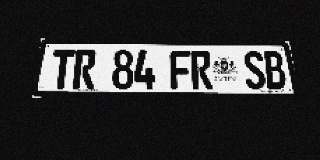4: (134, 50, 155, 89)
8: (112, 50, 134, 89)
B: (262, 51, 288, 89)
F: (170, 50, 191, 89)
R: (72, 49, 97, 89), (190, 51, 213, 89)
S: (242, 51, 267, 89)
T: (49, 49, 75, 89)
